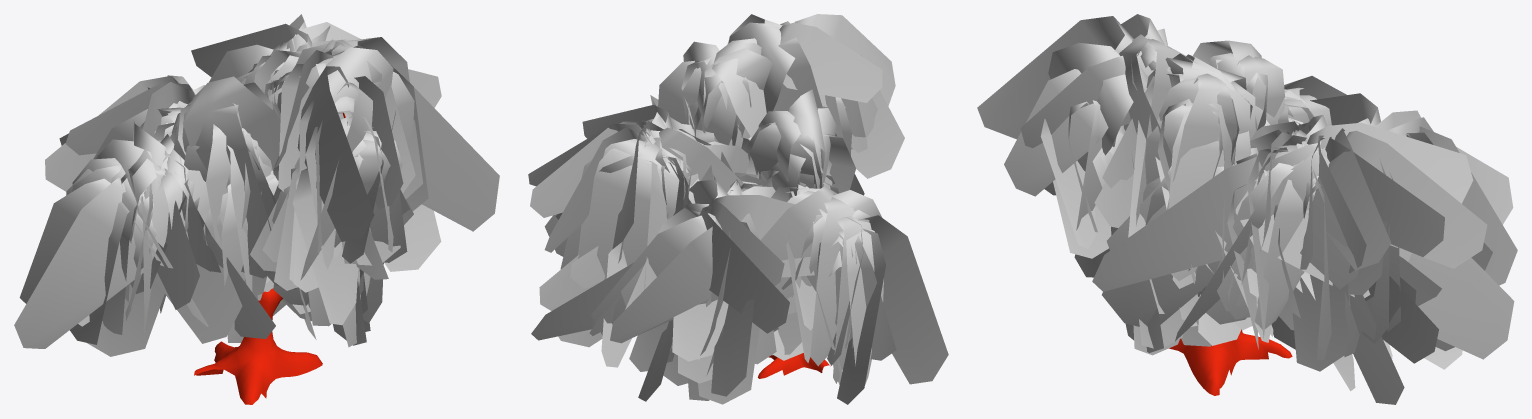
Rendered from boom.fbx.
3 views of the same model, side by side, from view 1: azimuth 30°, elevation 25°; view 2: azimuth 150°, elevation 25°; view 3: azimuth 270°, elevation 25° (orthographic). The views are drawn at different scales.
Visible parts, largest first — view 1: bladeren_weeping_willow_png-removebg-preview.303, boom hoog; view 2: bladeren_weeping_willow_png-removebg-preview.303, boom hoog; view 3: bladeren_weeping_willow_png-removebg-preview.303, boom hoog.
Boxes of the visible parts, x1=… form: bladeren_weeping_willow_png-removebg-preview.303: x1=14, y1=14, x2=499, y2=356; boom hoog: x1=194, y1=113, x2=345, y2=404; bladeren_weeping_willow_png-removebg-preview.303: x1=528, y1=14, x2=948, y2=404; boom hoog: x1=758, y1=353, x2=830, y2=378; bladeren_weeping_willow_png-removebg-preview.303: x1=977, y1=14, x2=1517, y2=404; boom hoog: x1=1169, y1=329, x2=1292, y2=395.
Bounding box in the file's own units: 53.21 × 41.08 × 56.05.
